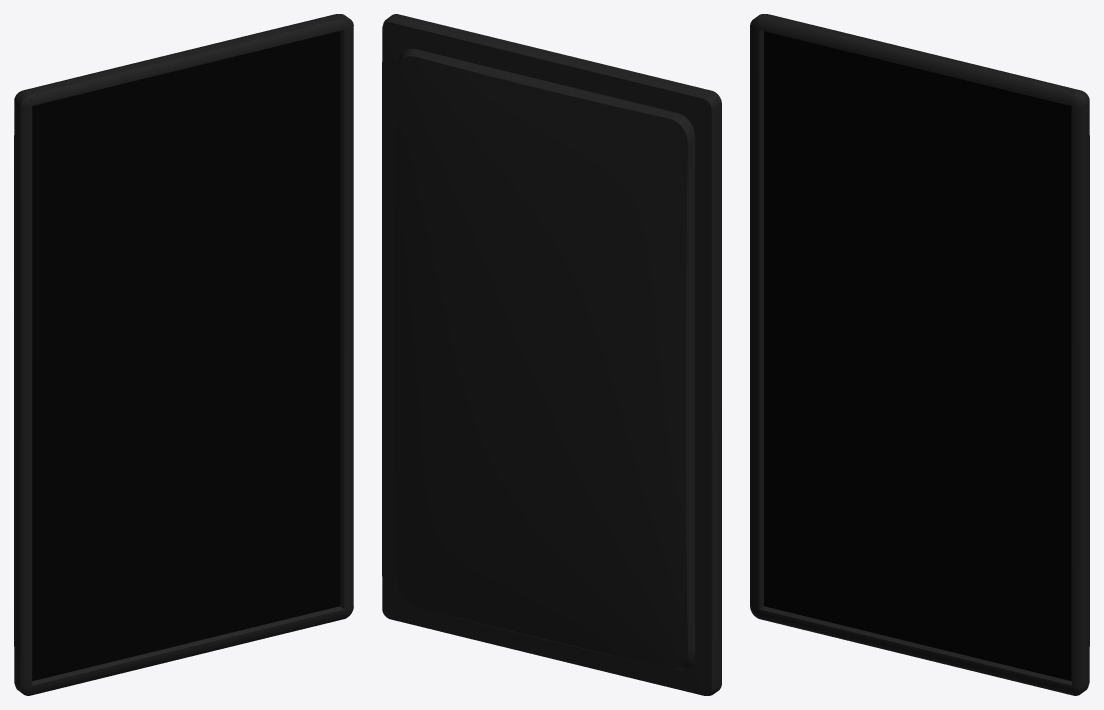
Rendered from Monitor Sin Base Vertical.glb.
3 views of the same model, side by side, from view 1: azimuth 30°, elevation 25°; view 2: azimuth 150°, elevation 25°; view 3: azimuth 330°, elevation 25° (orthographic).
Visible parts, largest first — view 1: 3e093c53-23f6-4577-b4ef-bce7aabeeaf6, 899c8d01-ef14-4eb2-9826-1b3e6d072a2f; view 2: 899c8d01-ef14-4eb2-9826-1b3e6d072a2f; view 3: 3e093c53-23f6-4577-b4ef-bce7aabeeaf6, 899c8d01-ef14-4eb2-9826-1b3e6d072a2f.
Part boxes in pixels (<box>): 3e093c53-23f6-4577-b4ef-bce7aabeeaf6: <box>32,31,339,681</box>; 899c8d01-ef14-4eb2-9826-1b3e6d072a2f: <box>14,14,353,695</box>; 899c8d01-ef14-4eb2-9826-1b3e6d072a2f: <box>382,14,721,695</box>; 3e093c53-23f6-4577-b4ef-bce7aabeeaf6: <box>764,31,1071,681</box>; 899c8d01-ef14-4eb2-9826-1b3e6d072a2f: <box>750,14,1089,695</box>.
Bounding box in the file's own units: 0.4285 × 0.7381 × 0.0483.
Materials: 2 (1 with a texture image).
